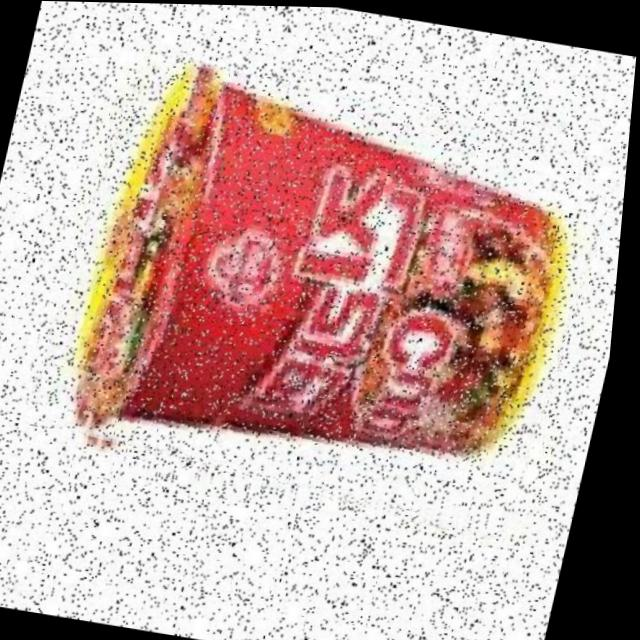Miscellaneous: (27, 51, 630, 534)
